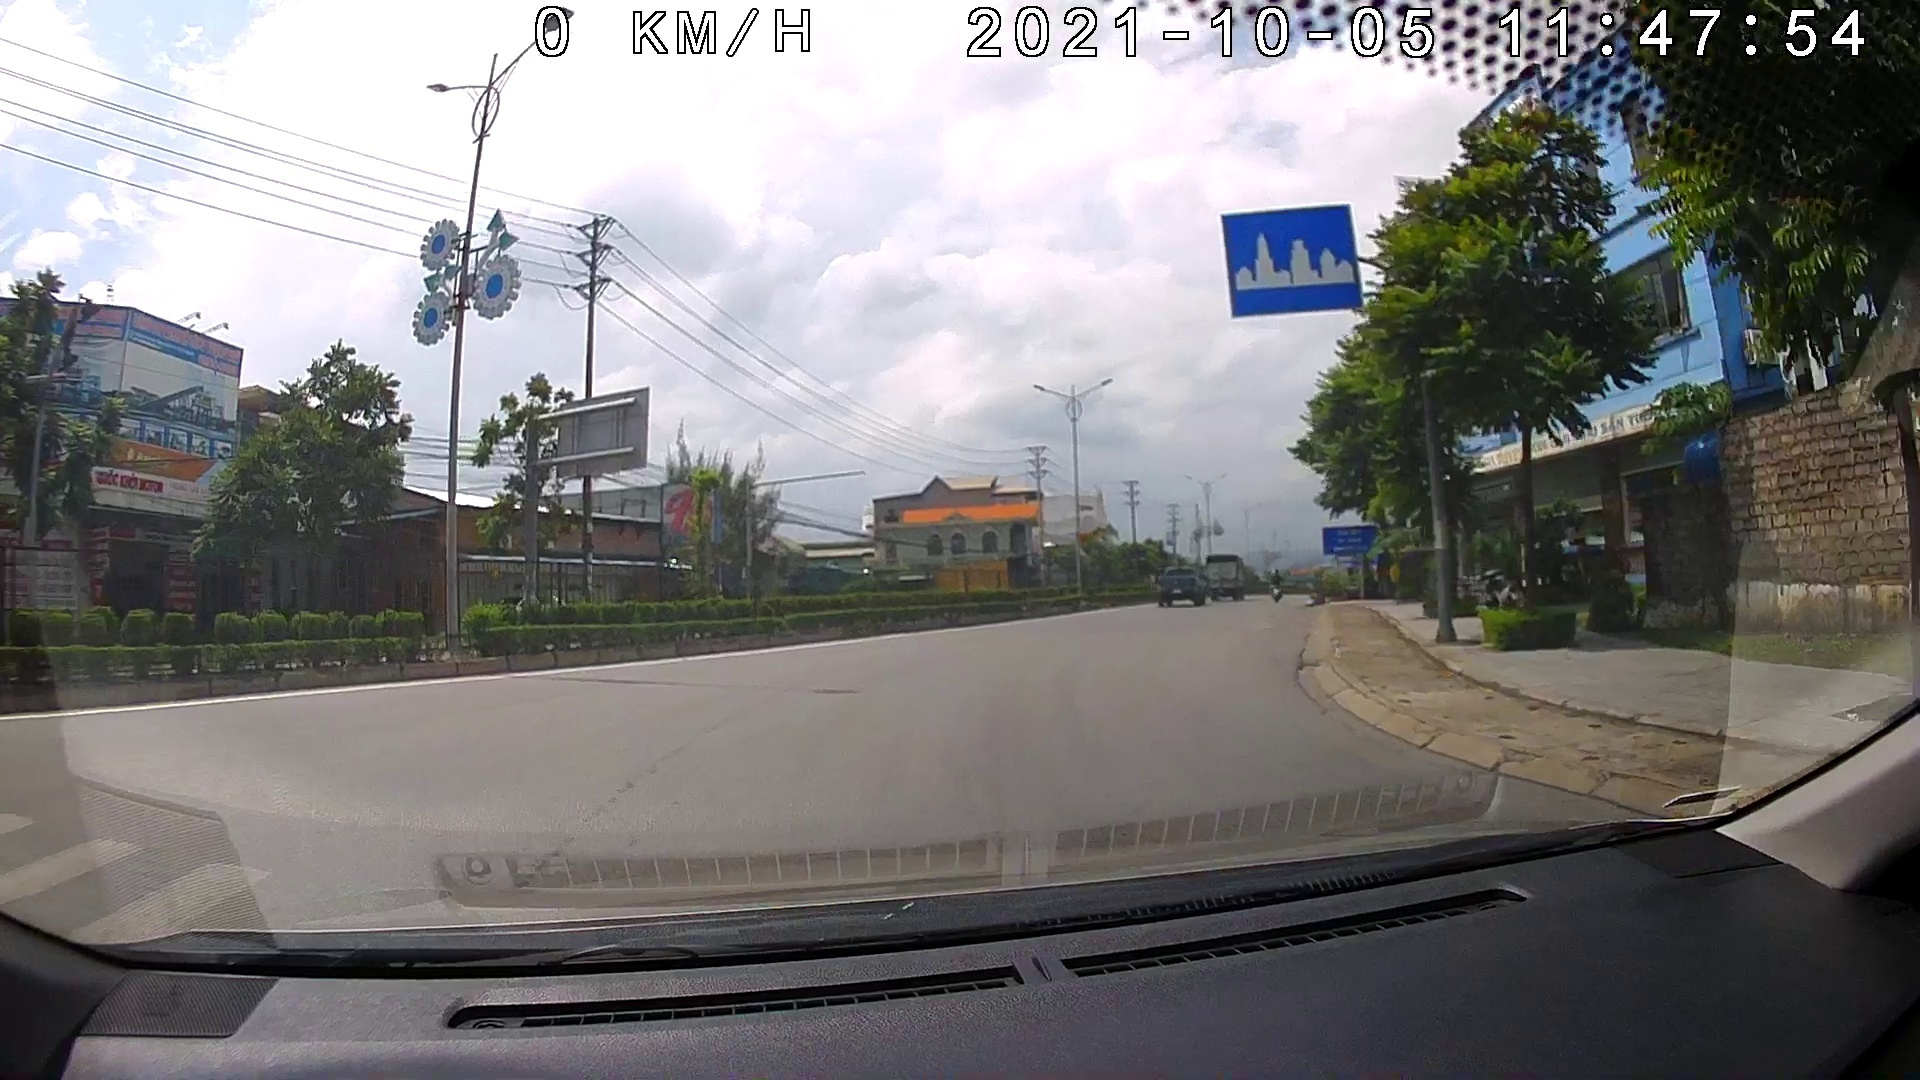Bien khac: (1218, 200, 1366, 319)
